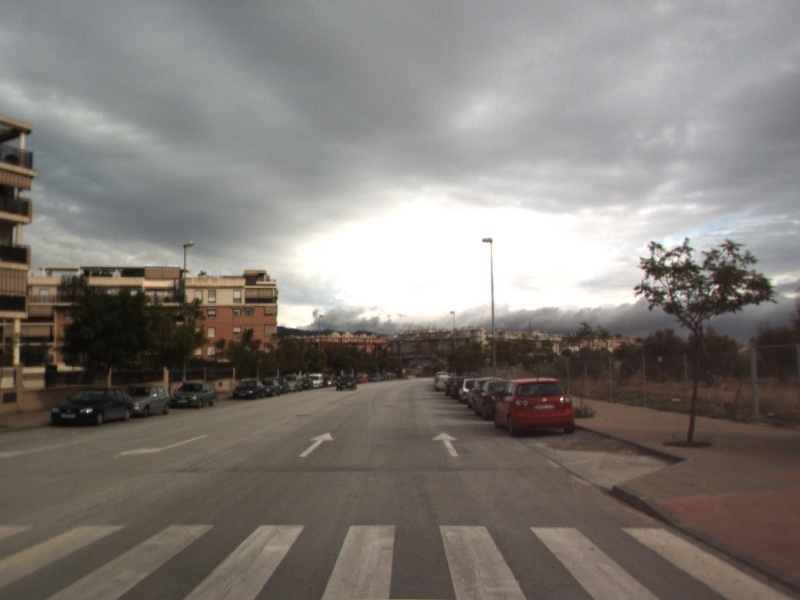STRAIGHT: (297, 430, 336, 459), (430, 430, 461, 458)
